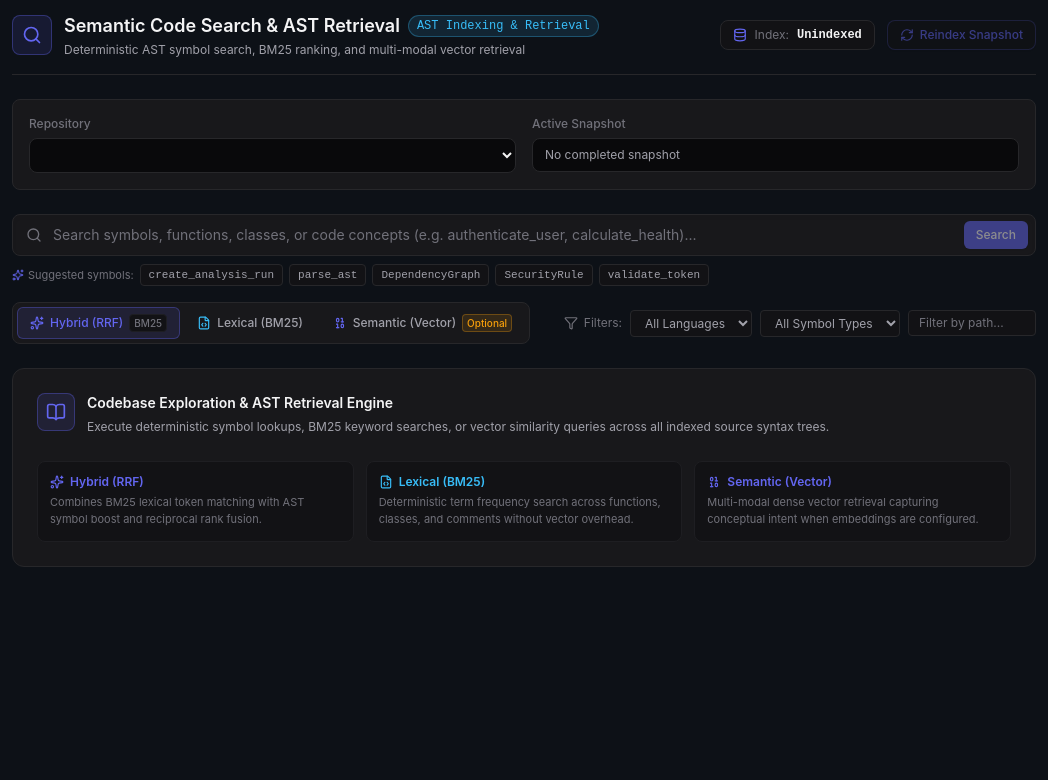
Scenario: CodeSearchPage Component › discards earlier in-flight search responses when a newer query finishes first
This screenshot has width=1048, height=780.
// Trigger first search
Replace the text in the field with placeholder "Search symbols, functions, classes" with "first_query" at (524, 235), box [12, 214, 1036, 256]
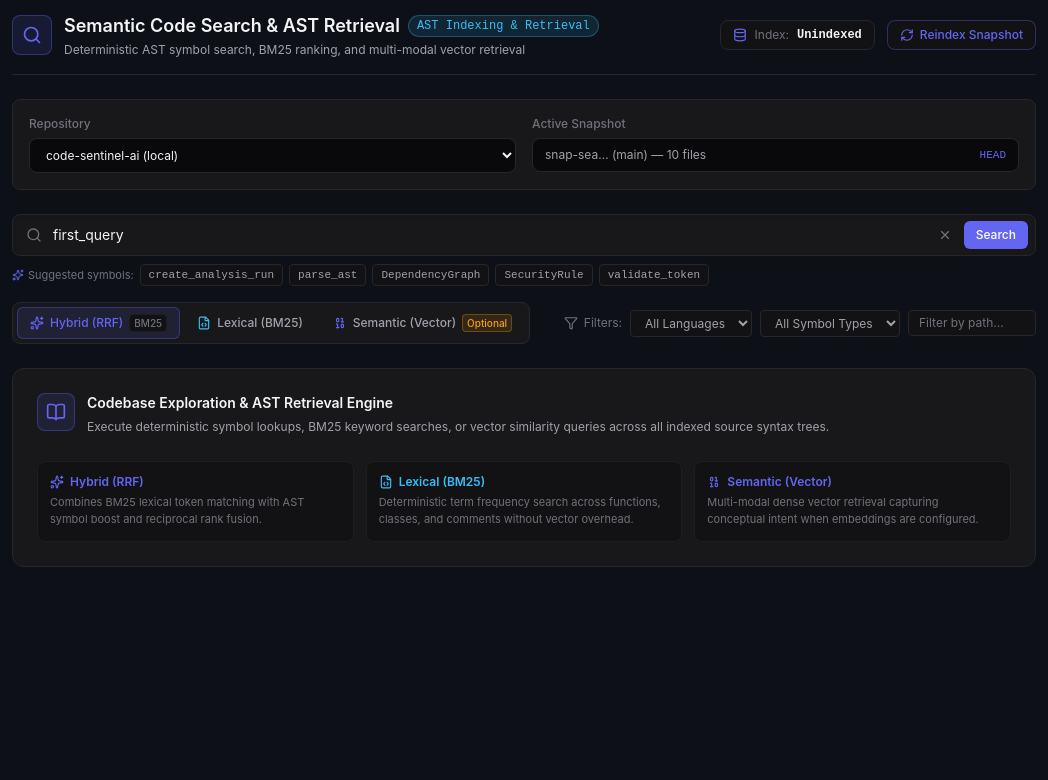
Submit the form with placeholder "Search symbols, functions, classes", box [12, 214, 1036, 344]
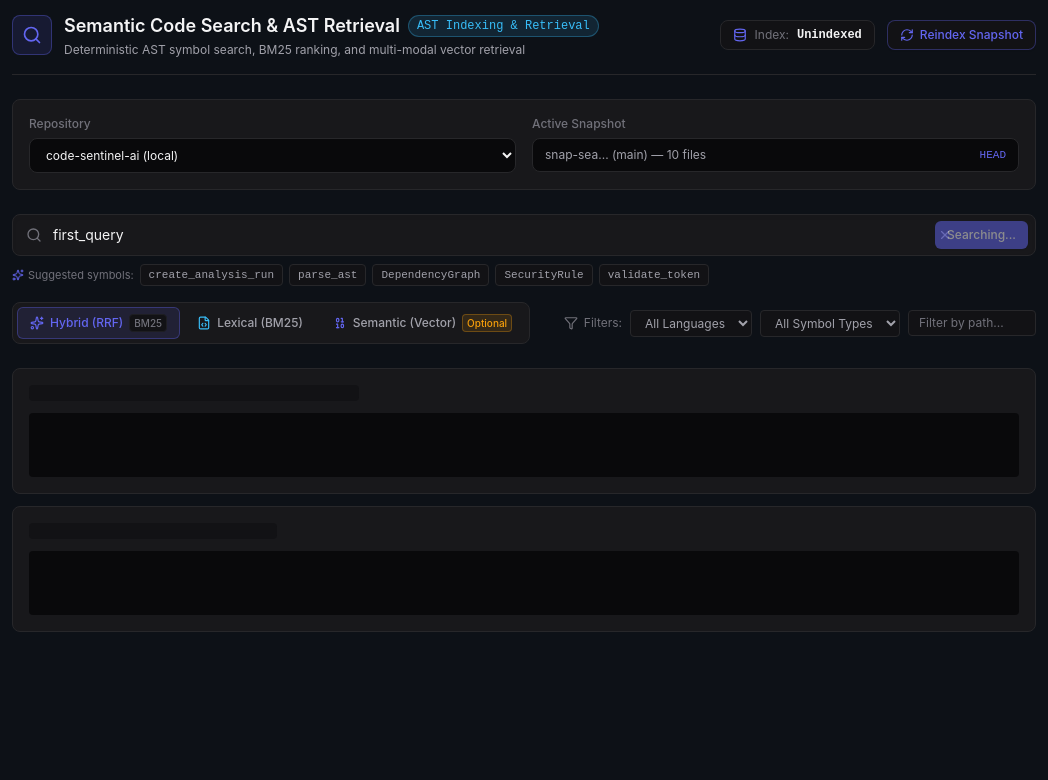
// Trigger second search immediately
Replace the text in the field with placeholder "Search symbols, functions, classes" with "second_query" at (524, 235), box [12, 214, 1036, 256]
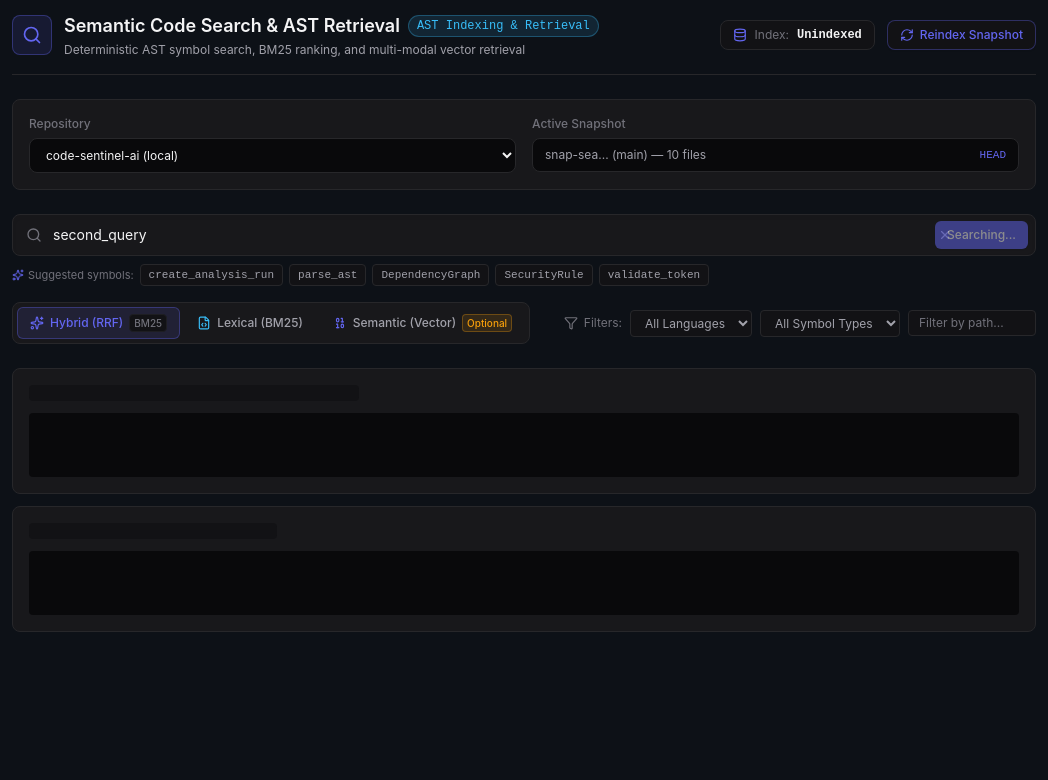
Submit the form with placeholder "Search symbols, functions, classes", box [12, 214, 1036, 344]
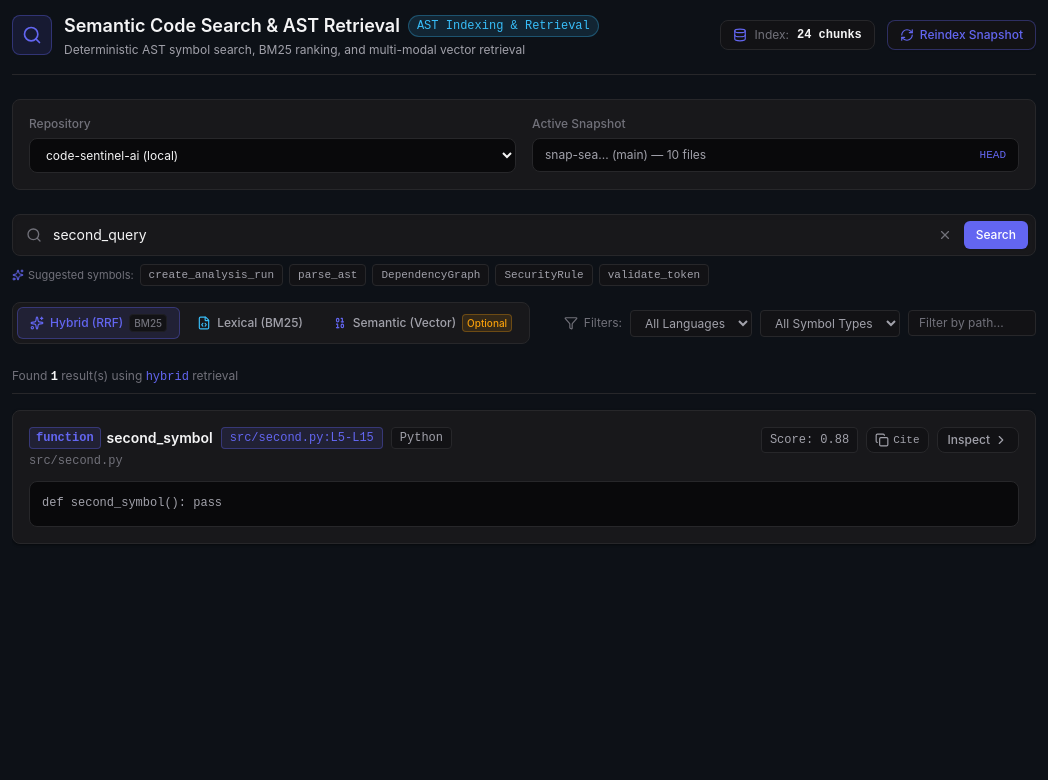
expect the text "second_symbol" is shown: met, box [107, 428, 213, 448]
